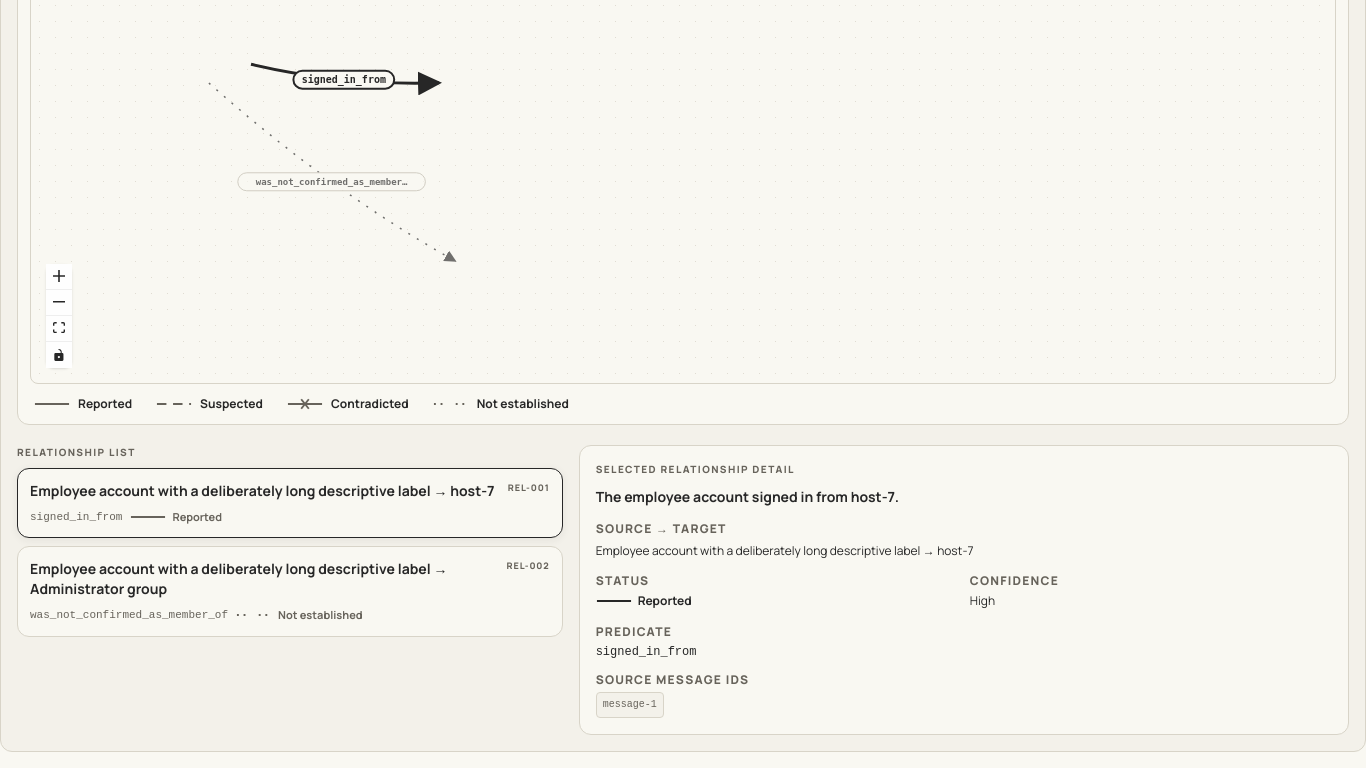
CaseRelationshipGraph › updates the live detail and preserves text labels for uncertainty
The width and height of the screenshot is (1366, 768).
(page scrolled)
What coordinates should you click on to do the following:
click the 6th button
I would click on:
 (230, 568)
Its box is 17,546 -> 563,636.
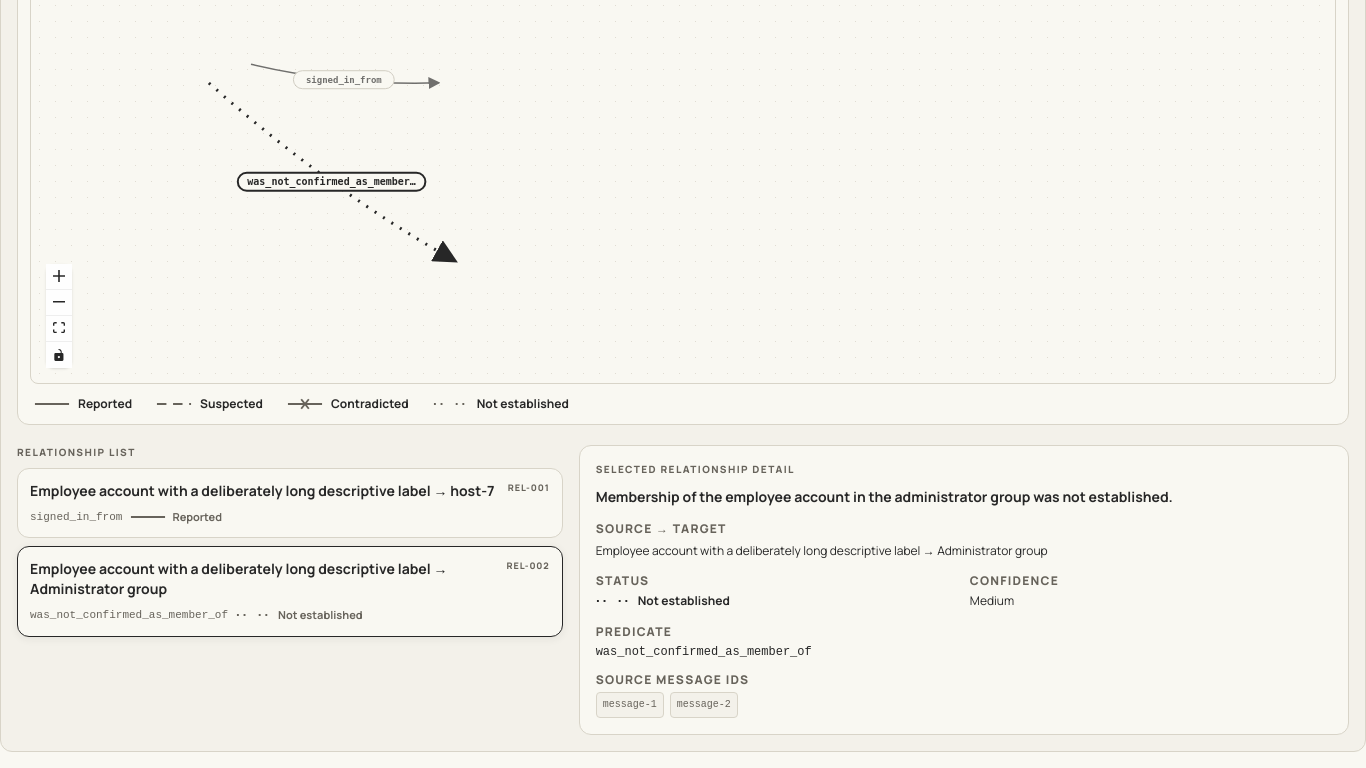
Check: the text "Membership of the employee" is shown, box 596,486 -> 1173,506
Check: the text "Not established" below "Status" is shown, box 638,592 -> 730,608
Check: the text "message-2" is shown, box 670,692 -> 738,718
